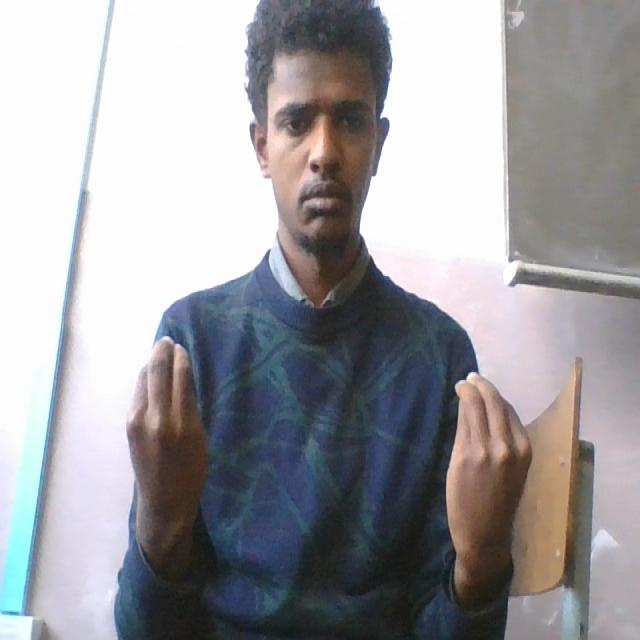tena_ystilgn: (122, 330, 537, 634)
